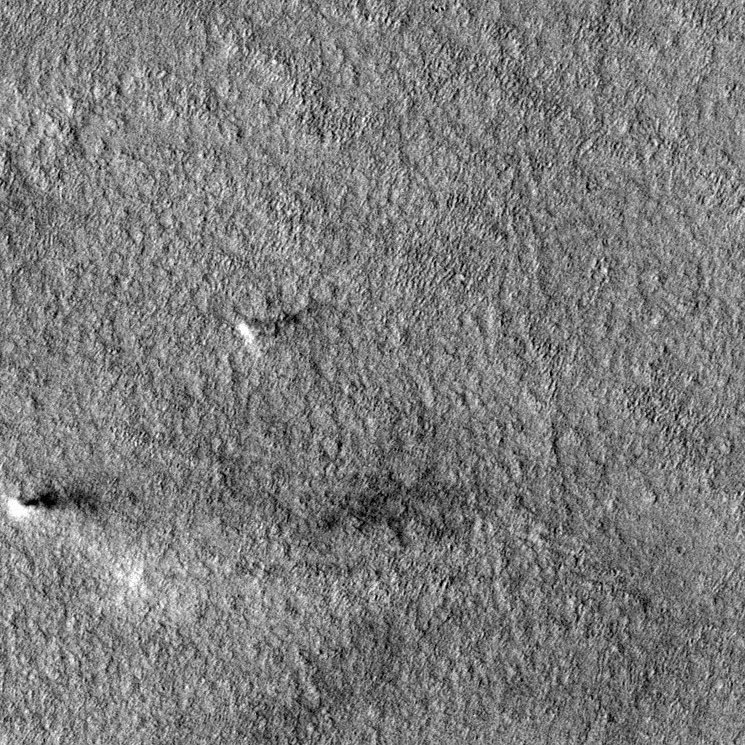dust_devil: (231, 306, 313, 359), (2, 482, 93, 526)
